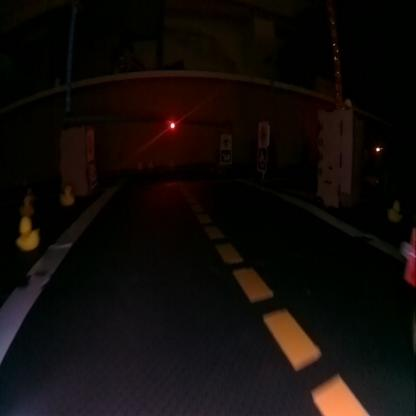Duckie: (18, 218, 39, 250), (60, 186, 74, 206), (20, 196, 33, 216), (389, 200, 400, 221), (168, 158, 174, 166), (147, 160, 153, 168), (136, 162, 141, 168)
Intersection sign: (258, 122, 267, 146), (219, 134, 230, 148)
QR code: (257, 146, 266, 169), (88, 161, 96, 186), (220, 149, 230, 162)
Traffic light: (168, 120, 174, 128)
